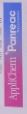ApplichemPanreac: (6, 9, 21, 102)
